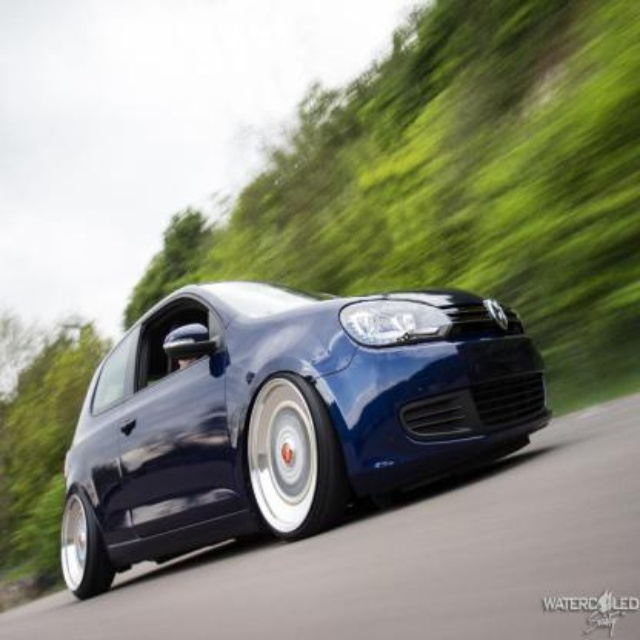Car: (57, 264, 534, 567)
